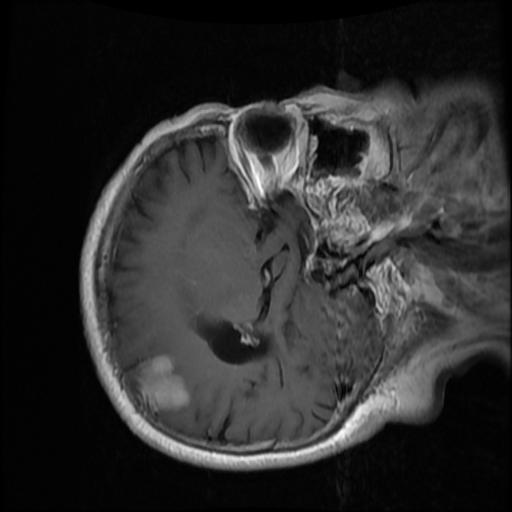meningioma: (133, 354, 188, 412)
